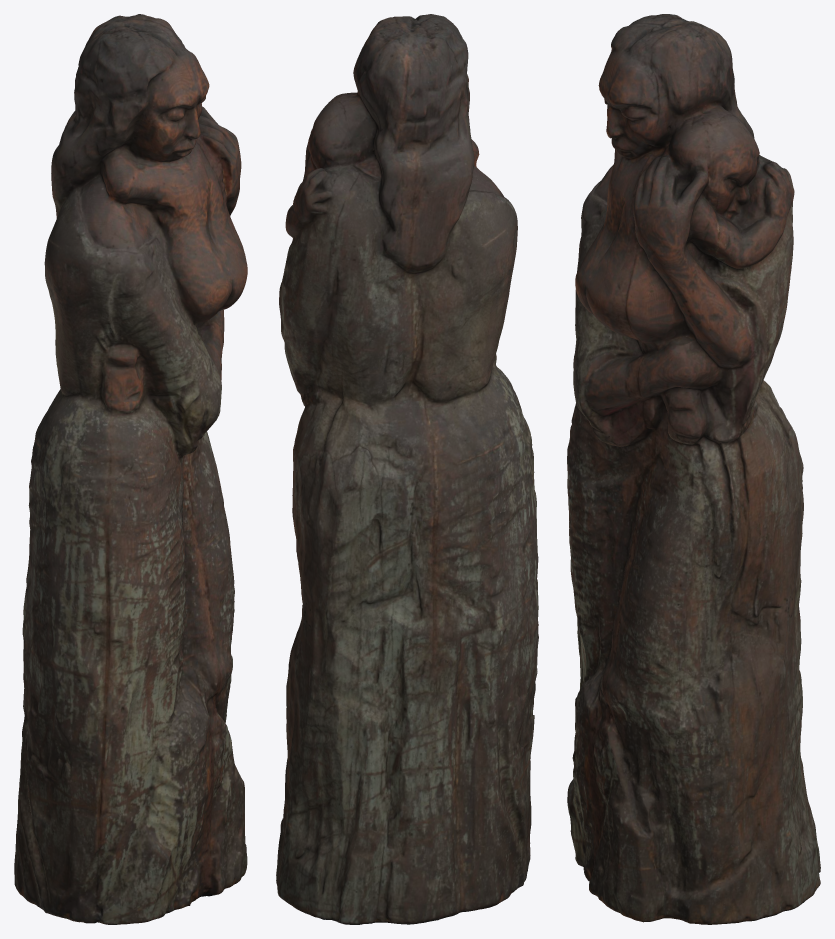
Rendered from preview.glb.
3 renders of one model, left to right at view 1: azimuth 30°, elevation 25°; view 2: azimuth 150°, elevation 25°; view 3: azimuth 270°, elevation 25°, orthographic.
Bounding box in the file's own units: 0.3107 × 1.2 × 0.323.
1 material, 1 textured.
